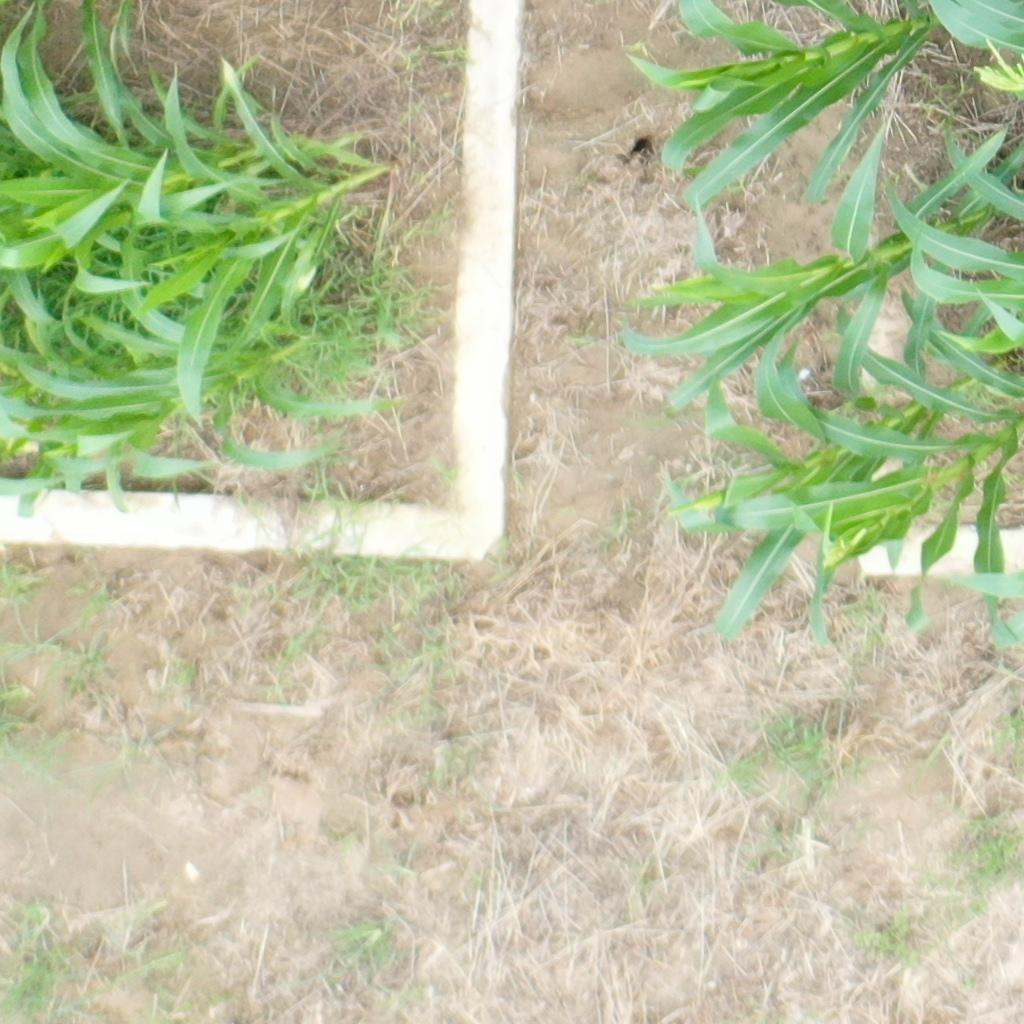Tassel: (966, 30, 1024, 96), (821, 524, 867, 567)
